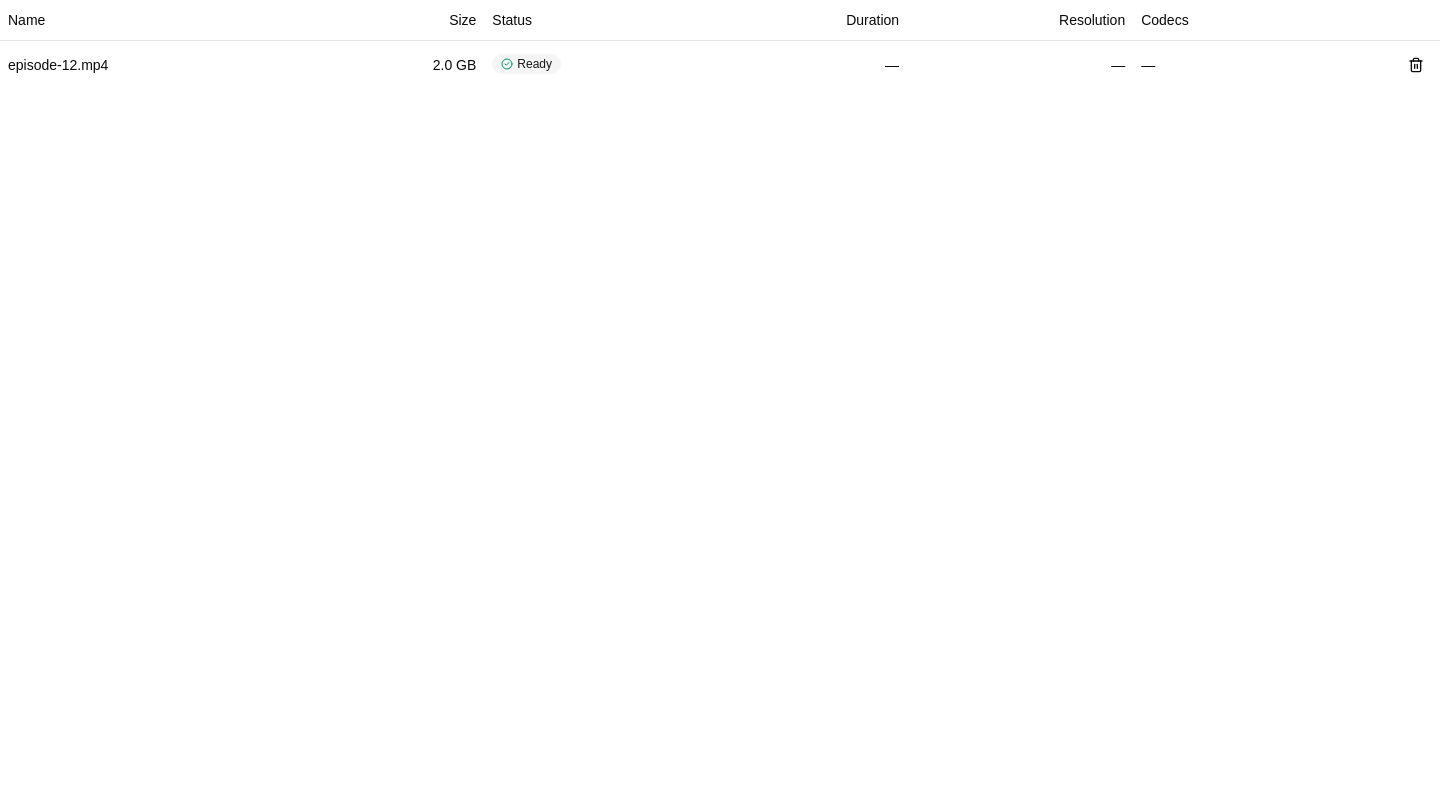
Test case: VideoTable › asks before deleting and removes the row once confirmed
Step 1. Click the button named "Delete episode-12.mp4" → {"x": 1416, "y": 64}, box [1400,48,1432,80]
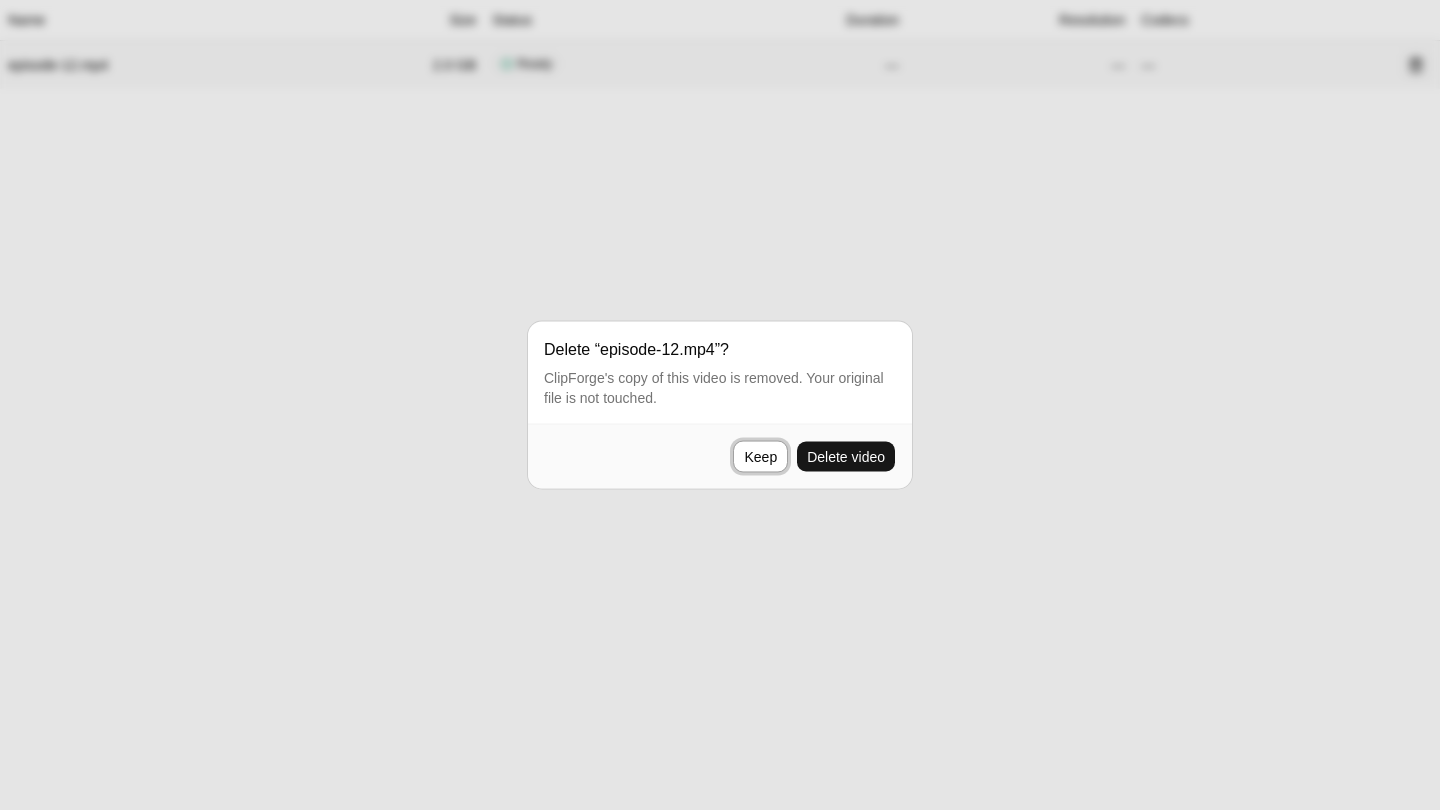
Check: the dialog shows "Delete “episode-12.mp4”?", box [544,340,729,358]
Step 2. Click the button "Delete video" → {"x": 846, "y": 456}, box [796,440,896,472]
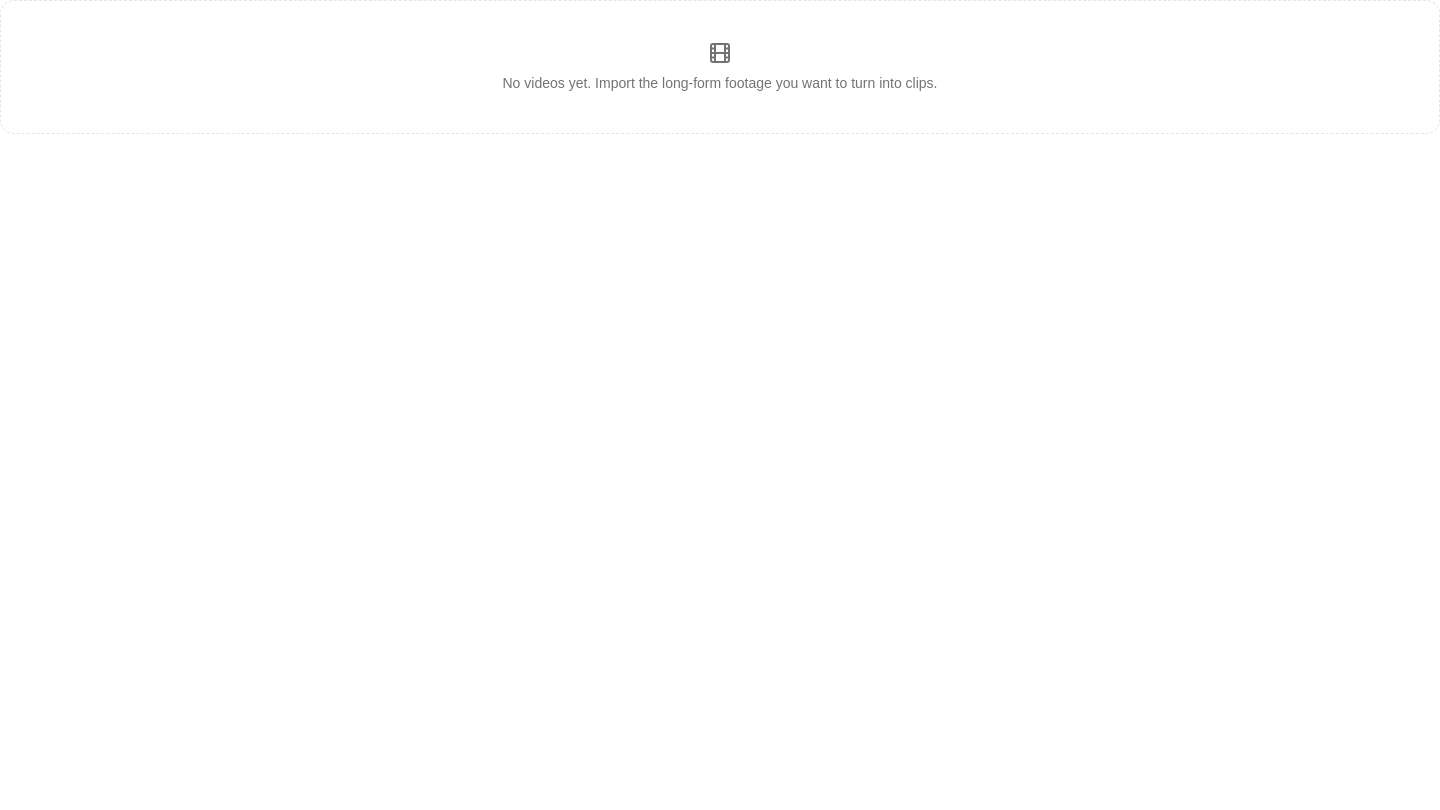
Check: the text "No videos yet" is shown, box [502,75,938,91]
